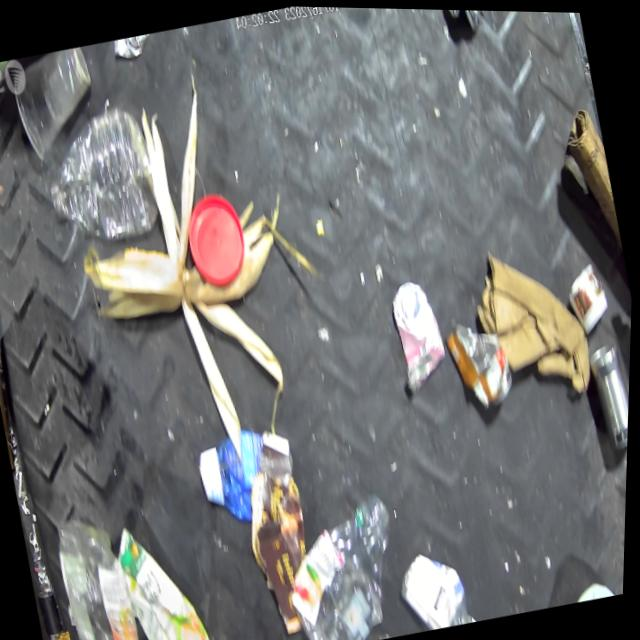can: (383, 271, 455, 396), (441, 310, 520, 414), (582, 333, 632, 453), (109, 30, 157, 61)
non_white_jug: (191, 422, 281, 529)
plastic_bottle: (272, 482, 419, 640), (32, 98, 167, 252), (52, 503, 156, 640)
